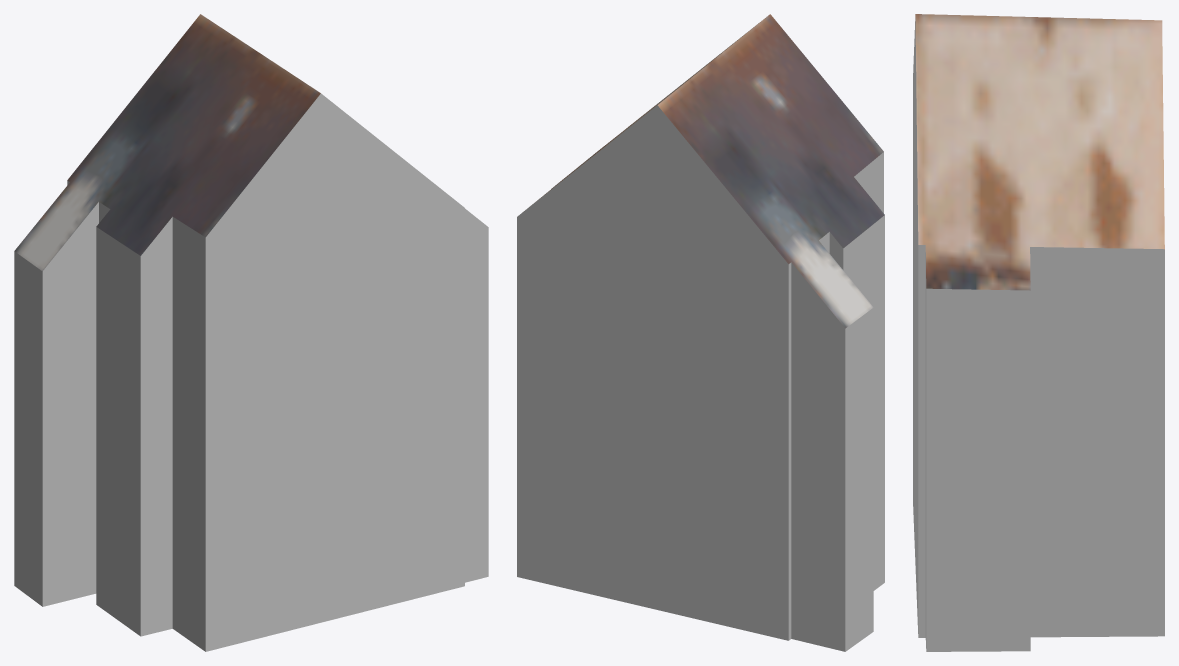
File: DEBW_0010007Tx7V.gltf
3 renders of one model, left to right at view 1: azimuth 30°, elevation 25°; view 2: azimuth 150°, elevation 25°; view 3: azimuth 270°, elevation 25°, orthographic. The views are drawn at different scales.
Visible parts, largest first — view 1: Z_UP; view 2: Z_UP; view 3: Z_UP.
Part boxes in pixels (<box>): Z_UP: <box>14,14,488,651</box>; Z_UP: <box>517,14,884,651</box>; Z_UP: <box>913,14,1164,651</box>.
Bounding box in the file's own units: 15.98 × 22.12 × 9.17.
Materials: 2 (1 with a texture image).
